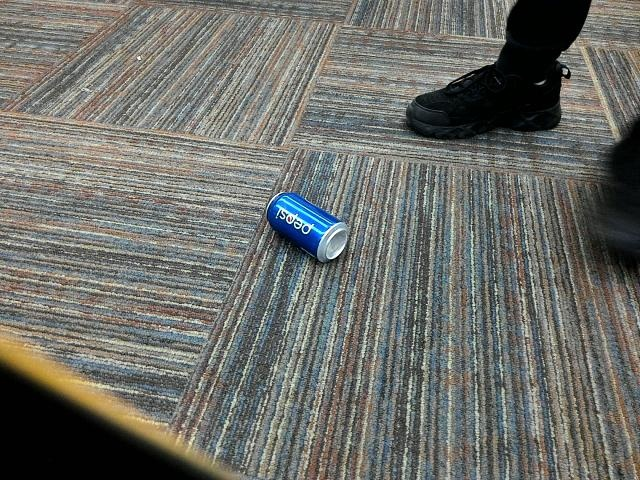can: (256, 174, 352, 269)
